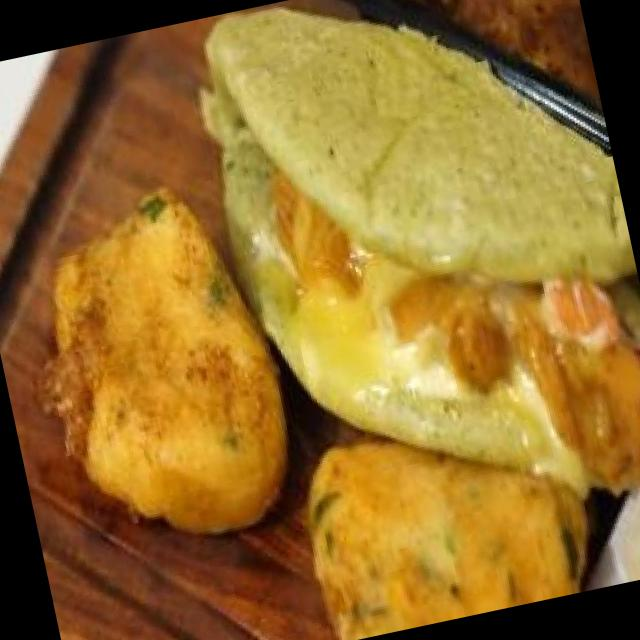mango chicken pocket: (178, 0, 640, 544)
perkedel: (0, 135, 295, 553), (277, 382, 609, 640)
